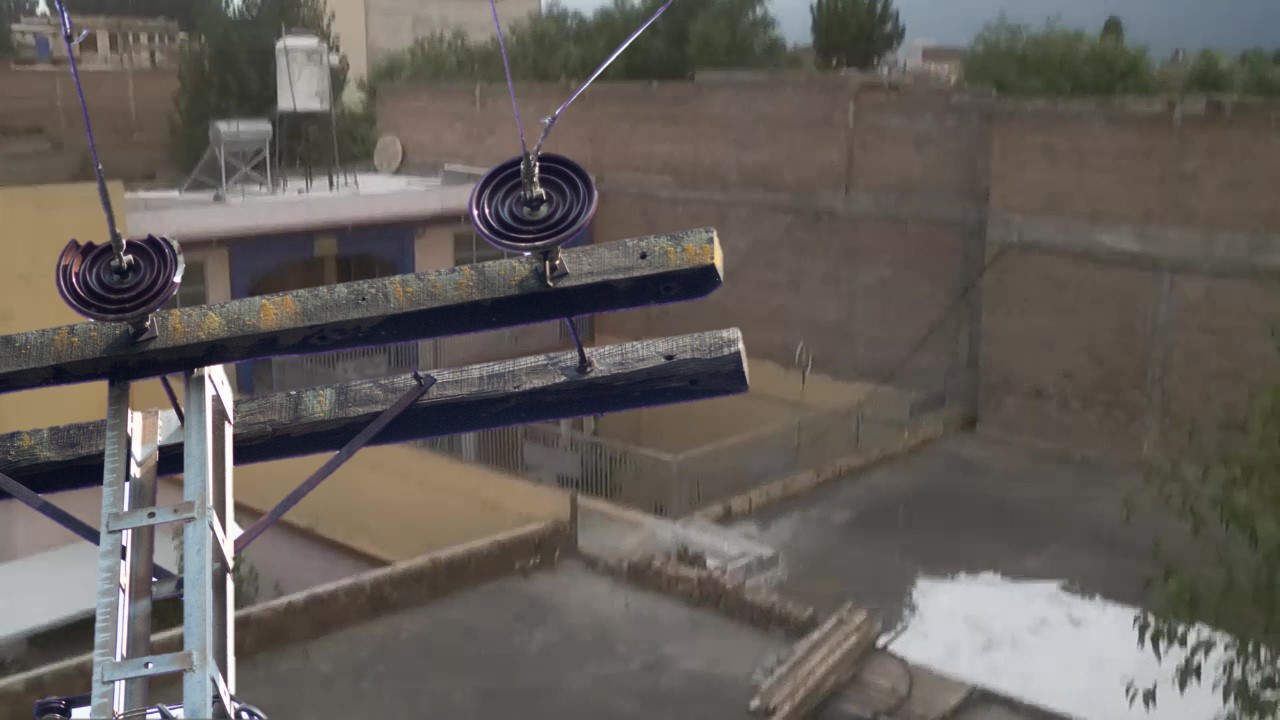defect_disc: (52, 227, 191, 320)
insulator_disc: (465, 147, 609, 256)
